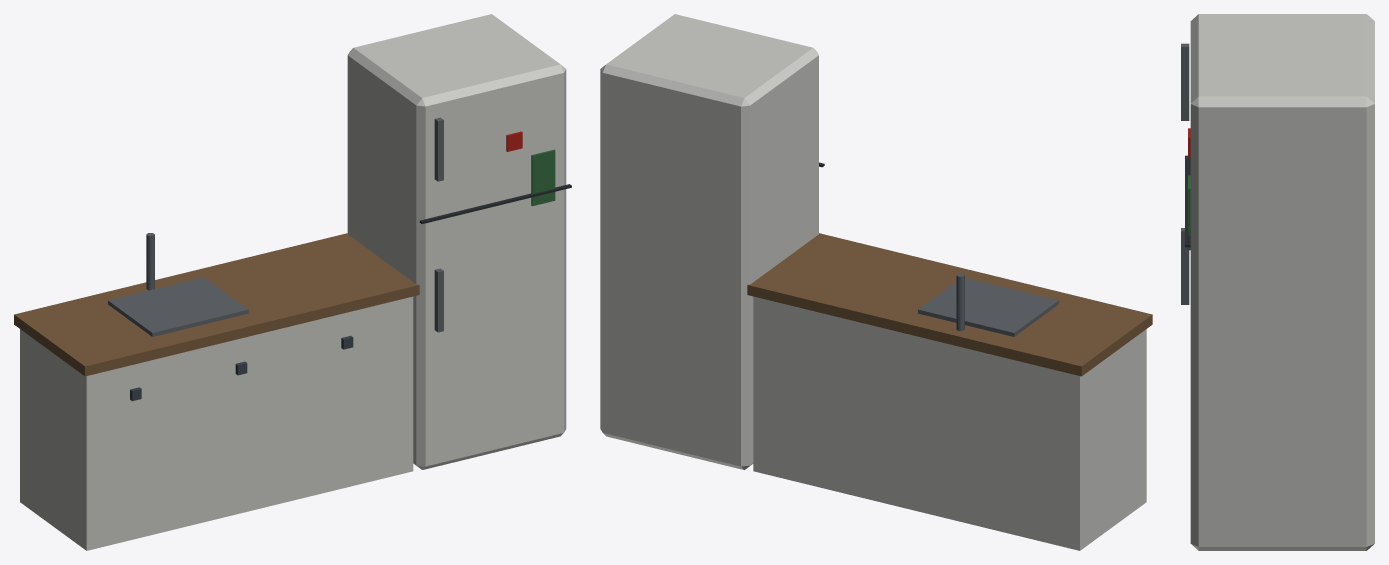
Rendered from cg-kitchen.glb.
3 views of the same model, side by side, from view 1: azimuth 30°, elevation 25°; view 2: azimuth 150°, elevation 25°; view 3: azimuth 270°, elevation 25° (orthographic). The views are drawn at different scales.
Visible parts, largest first — view 1: cg-kitchen; view 2: cg-kitchen; view 3: cg-kitchen.
Part boxes in pixels (x1,y1,x2,y2): cg-kitchen: [14, 14, 571, 550]; cg-kitchen: [600, 14, 1152, 550]; cg-kitchen: [1181, 14, 1374, 550].
Size of the model in its own units: 2.51 by 1.85 by 0.715.
